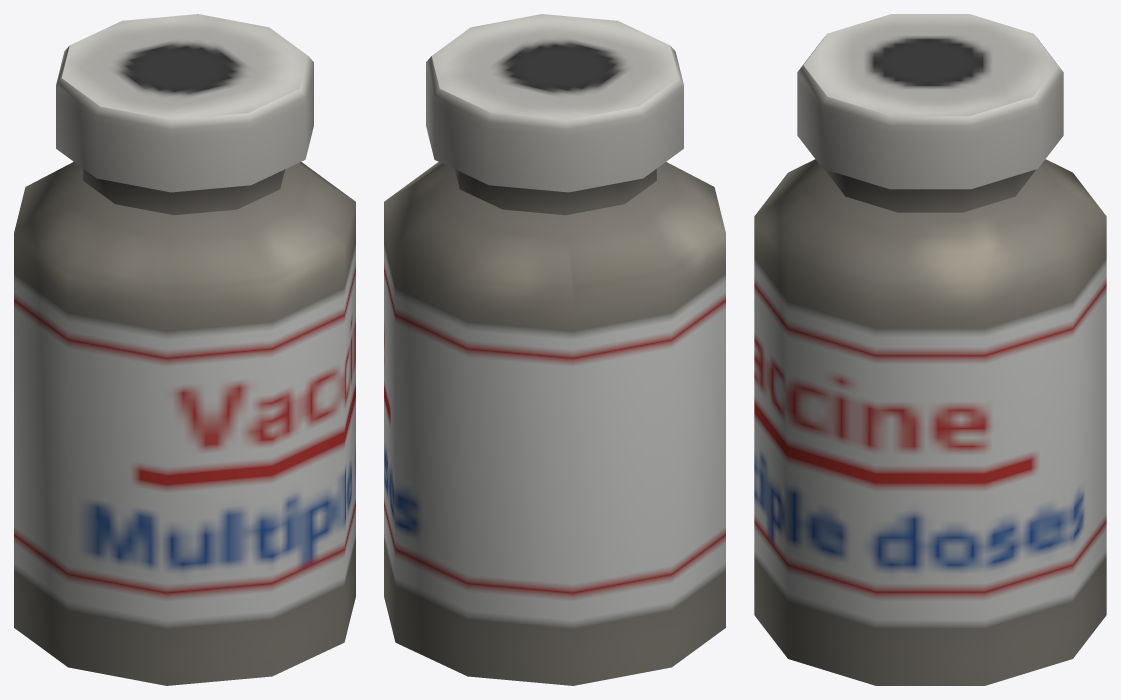
Rendered from ITEM_vial.fbx.
3 views of the same model, side by side, from view 1: azimuth 30°, elevation 25°; view 2: azimuth 150°, elevation 25°; view 3: azimuth 270°, elevation 25° (orthographic).
Visible parts, largest first — view 1: ITEM_vial; view 2: ITEM_vial; view 3: ITEM_vial.
Boxes of the visible parts, bbox=[...] form: ITEM_vial: bbox=[14, 14, 355, 685]; ITEM_vial: bbox=[384, 14, 725, 685]; ITEM_vial: bbox=[754, 14, 1106, 685].
Bounding box in the file's own units: 0.0196 × 0.0354 × 0.0206.
